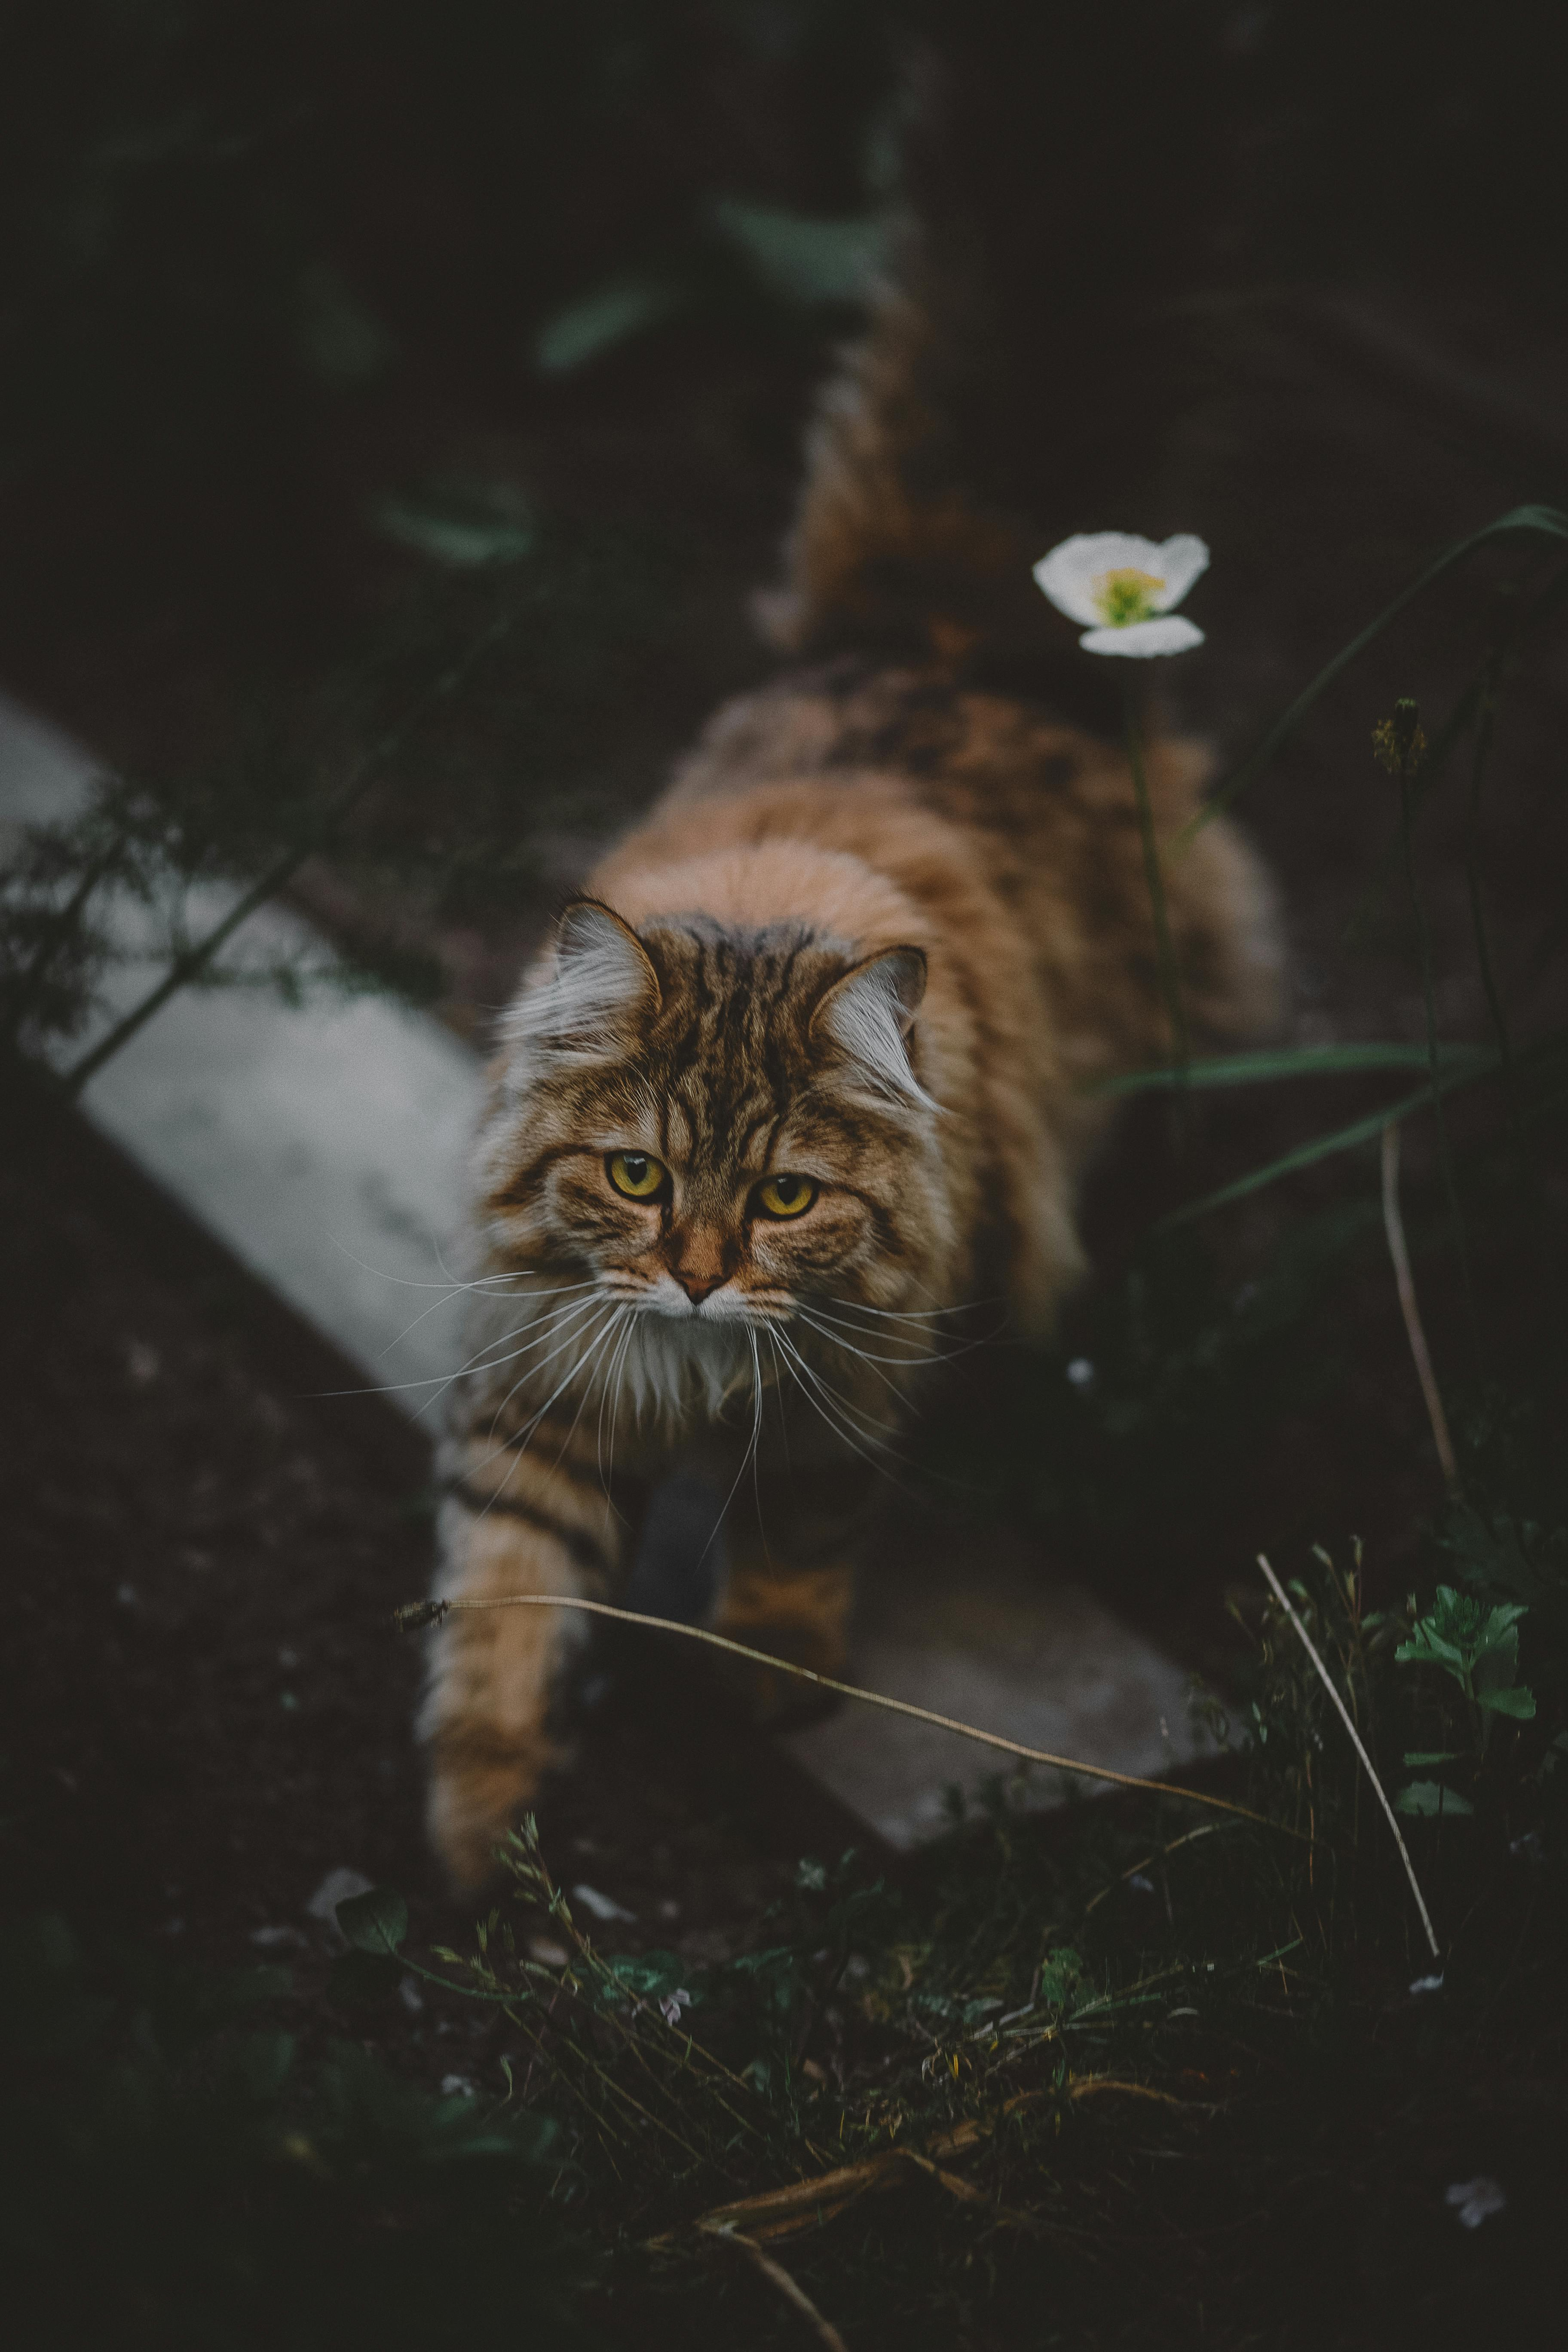kedo: (423, 892, 945, 1885)
